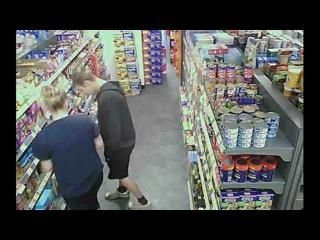Normal: (70, 70, 152, 207), (30, 85, 104, 210)
